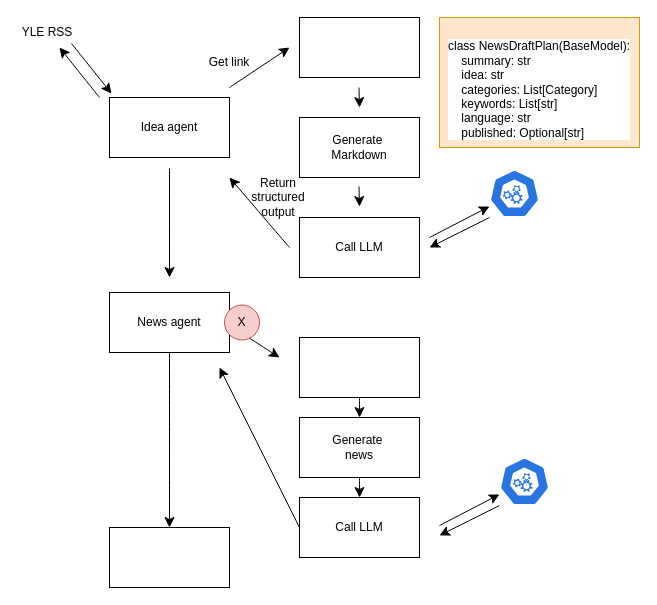
Image size: 657x605. Some labels were removed from this diagram. The box of each missing label's shape, as (x1, y1, x2, y2) in pixels:
Make web searches by using summary of news and keyword: (298, 336, 420, 398)
Read news - parse data: (298, 16, 420, 78)
Validate: (108, 526, 230, 588)
